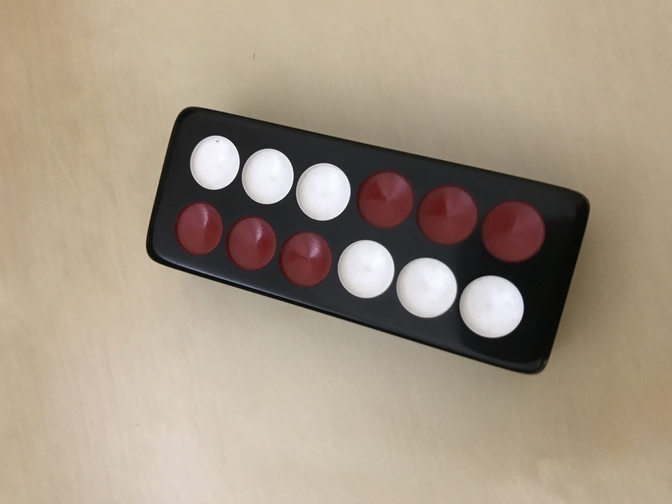heaven: (145, 105, 590, 376)
